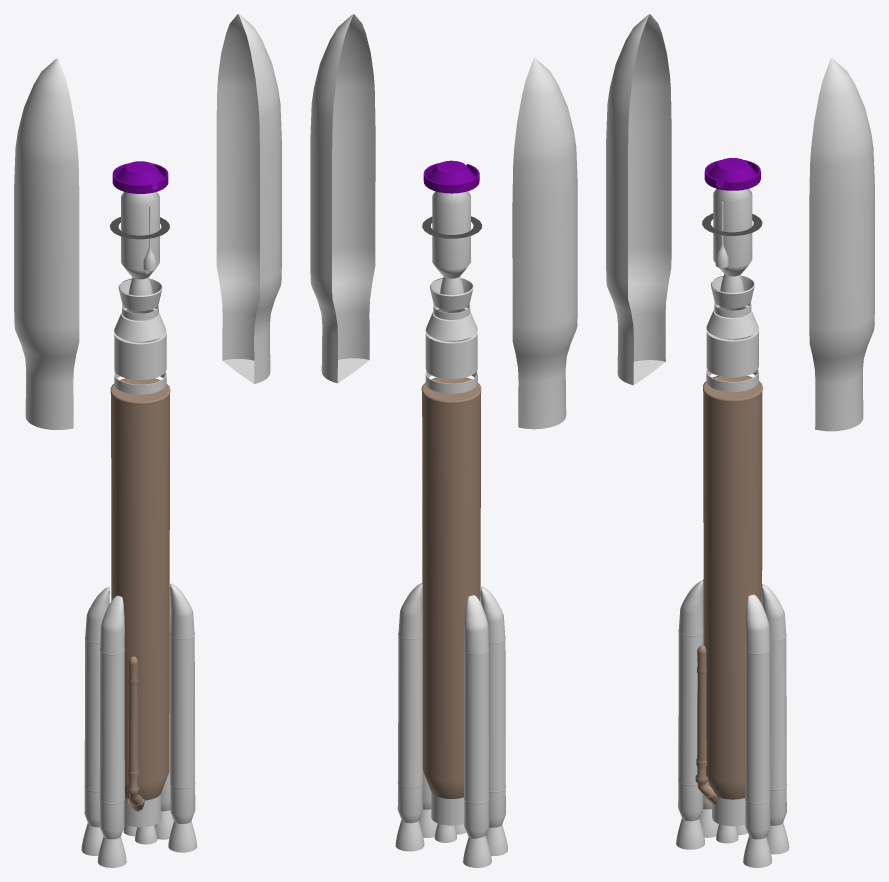
File: atlas export.fbx
The picture shows the model from 3 angles, left to right: view 1: azimuth 30°, elevation 25°; view 2: azimuth 150°, elevation 25°; view 3: azimuth 330°, elevation 25°; orthographic projection.
Visible parts, largest first — view 1: Rocket_Shell_Geo_01, Rocket_Shell_Geo_02, Stage_01_Rocket_Base_Geo, Rocket_Booste_Geor_01, Rocket_Booster_Geo_02, Rocket_Booster_Geo_03, Centaur_Rocket_Geo, Rocket_Part_Geo_02, Payload_Geo1, Stage_01_Part_Geo_01, Rocket_Part_Geo_03, Rocket_Part_Geo_05 (+5 smaller); view 2: Stage_01_Rocket_Base_Geo, Rocket_Shell_Geo_01, Rocket_Shell_Geo_02, Rocket_Booster_Geo_03, Rocket_Booster_Geo_04, Rocket_Booste_Geor_01, Centaur_Rocket_Geo, Rocket_Part_Geo_02, Payload_Geo1, Rocket_Part_Geo_03, Stage_01_Engine_Part_Geo, Rocket_Part_Geo_05 (+4 smaller); view 3: Rocket_Shell_Geo_02, Stage_01_Rocket_Base_Geo, Rocket_Shell_Geo_01, Rocket_Booster_Geo_02, Rocket_Booste_Geor_01, Rocket_Booster_Geo_04, Centaur_Rocket_Geo, Rocket_Part_Geo_02, Payload_Geo1, Stage_01_Part_Geo_01, Rocket_Part_Geo_03, Rocket_Part_Geo_05 (+5 smaller).
Boxes of the visible parts, left/top/right/bottom form: Rocket_Shell_Geo_01: left=14, top=58, right=79, bottom=429; Rocket_Shell_Geo_02: left=216, top=14, right=281, bottom=383; Stage_01_Rocket_Base_Geo: left=110, top=378, right=170, bottom=800; Rocket_Booste_Geor_01: left=99, top=595, right=124, bottom=839; Rocket_Booster_Geo_02: left=169, top=583, right=195, bottom=823; Rocket_Booster_Geo_03: left=84, top=587, right=109, bottom=827; Centaur_Rocket_Geo: left=121, top=192, right=159, bottom=279; Rocket_Part_Geo_02: left=114, top=332, right=166, bottom=379; Payload_Geo1: left=112, top=161, right=168, bottom=193; Stage_01_Part_Geo_01: left=128, top=656, right=138, bottom=777; Rocket_Part_Geo_03: left=114, top=308, right=166, bottom=341; Rocket_Part_Geo_05: left=118, top=278, right=162, bottom=310; Stage_01_Rocket_Base_Geo: left=421, top=377, right=481, bottom=798; Rocket_Shell_Geo_01: left=512, top=58, right=577, bottom=429; Rocket_Shell_Geo_02: left=310, top=14, right=375, bottom=383; Rocket_Booster_Geo_03: left=464, top=595, right=489, bottom=838; Rocket_Booster_Geo_04: left=397, top=583, right=422, bottom=823; Rocket_Booste_Geor_01: left=480, top=586, right=505, bottom=827; Centaur_Rocket_Geo: left=432, top=191, right=470, bottom=278; Rocket_Part_Geo_02: left=425, top=331, right=477, bottom=379; Payload_Geo1: left=423, top=160, right=479, bottom=193; Rocket_Part_Geo_03: left=425, top=307, right=477, bottom=340; Stage_01_Engine_Part_Geo: left=431, top=792, right=464, bottom=825; Rocket_Part_Geo_05: left=430, top=278, right=473, bottom=310; Rocket_Shell_Geo_02: left=809, top=58, right=874, bottom=431; Stage_01_Rocket_Base_Geo: left=703, top=375, right=762, bottom=799; Rocket_Shell_Geo_01: left=606, top=14, right=671, bottom=385; Rocket_Booster_Geo_02: left=745, top=594, right=770, bottom=839; Rocket_Booste_Geor_01: left=678, top=580, right=703, bottom=821; Rocket_Booster_Geo_04: left=761, top=584, right=786, bottom=825; Centaur_Rocket_Geo: left=713, top=188, right=752, bottom=276; Rocket_Part_Geo_02: left=706, top=329, right=758, bottom=377; Payload_Geo1: left=704, top=158, right=760, bottom=190; Stage_01_Part_Geo_01: left=696, top=645, right=706, bottom=767; Rocket_Part_Geo_03: left=706, top=305, right=758, bottom=338; Rocket_Part_Geo_05: left=710, top=275, right=754, bottom=308.
Size of the model in its own units: 5.22 by 15.75 by 1.54.
